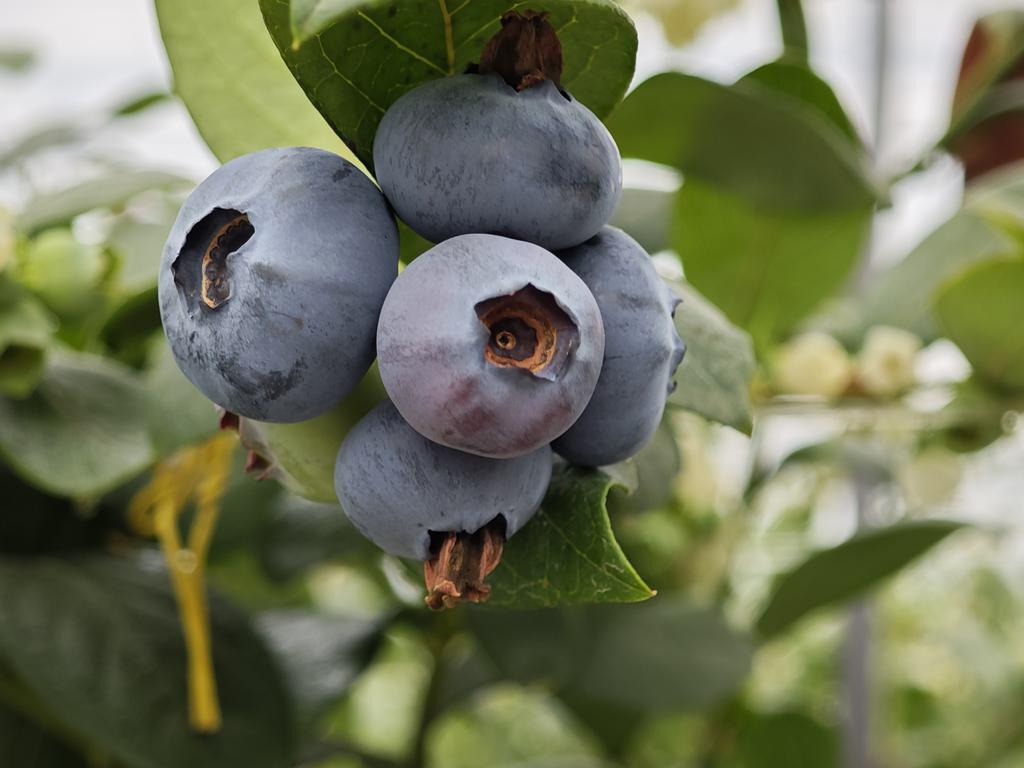RipeBlueBerry: (153, 142, 405, 424), (382, 230, 612, 460), (371, 60, 627, 241), (331, 396, 558, 564), (563, 218, 690, 468)
